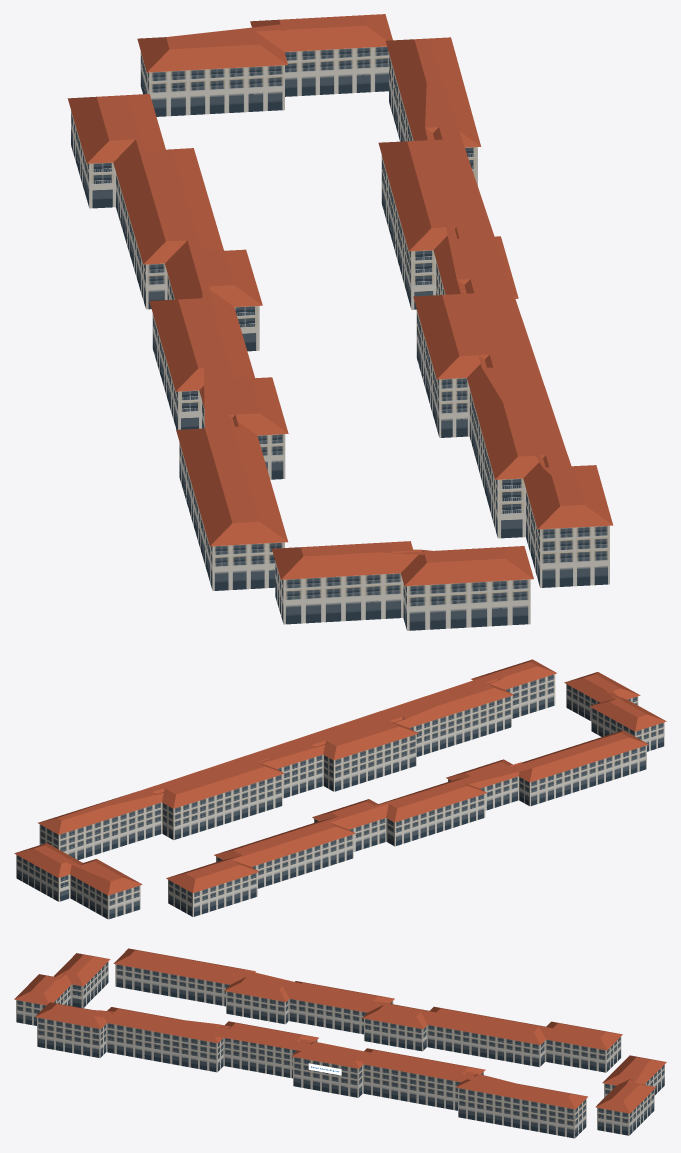
The model's file is eagleres.glb.
3 views of the same model, one above another, from view 1: azimuth 30°, elevation 25°; view 2: azimuth 150°, elevation 25°; view 3: azimuth 270°, elevation 25° (orthographic). The views are drawn at different scales.
Parts seen in each view (by area): view 1: eagleres_lod0; view 2: eagleres_lod0; view 3: eagleres_lod0.
Part boxes in pixels (x1=…): eagleres_lod0: x1=67, y1=14, x2=613, y2=630; eagleres_lod0: x1=14, y1=659, x2=666, y2=919; eagleres_lod0: x1=14, y1=948, x2=666, y2=1138.
Size of what is drawn, in the model's own units: 156 by 15.4 by 256.
Materials: 5 (3 with a texture image).
